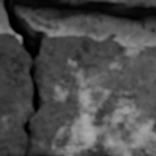brick: (11, 0, 155, 19)
broken_brick: (0, 32, 155, 155)
crack: (0, 0, 54, 153)
